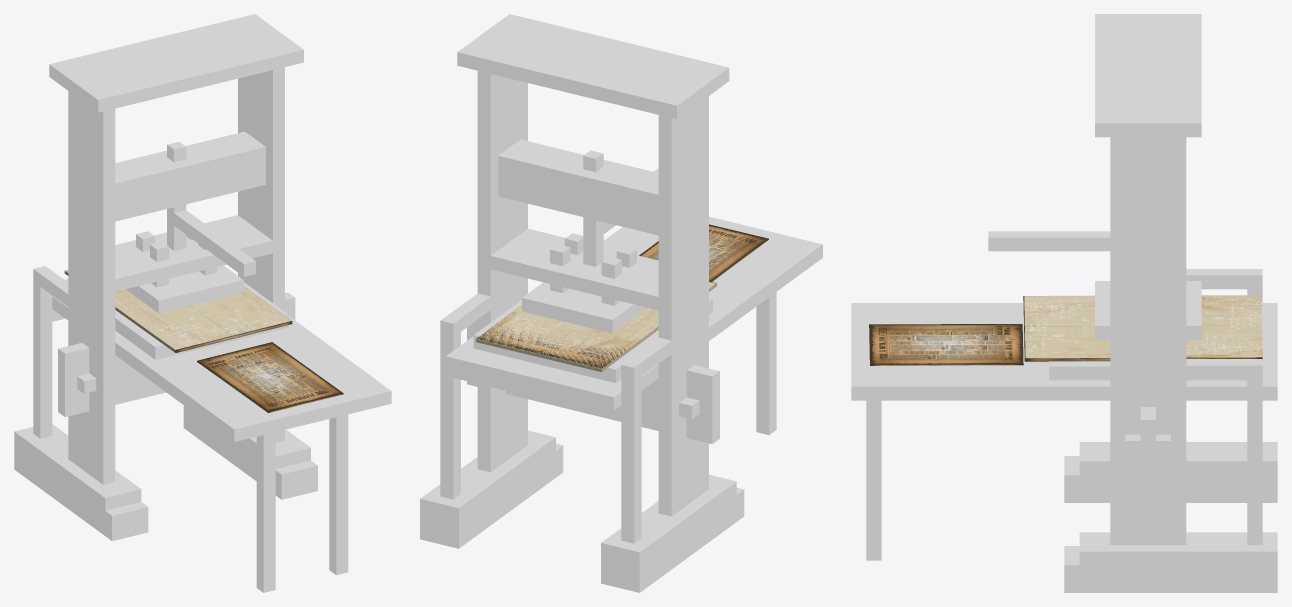
The model's file is prensa-transformed.glb.
3 views of the same model, side by side, from view 1: azimuth 30°, elevation 25°; view 2: azimuth 150°, elevation 25°; view 3: azimuth 270°, elevation 25° (orthographic). The views are drawn at different scales.
Visible parts, largest first — view 1: Object_2, s.001, s__2_.001; view 2: Object_2, s.001, s__1_.001, s__2_.001; view 3: Object_2, s.001, s__2_.001, s__1_.001.
Boxes of the visible parts, x1=… form: Object_2: x1=14, y1=14, x2=391, y2=592; s.001: x1=64, y1=270, x2=291, y2=352; s__2_.001: x1=197, y1=342, x2=343, y2=412; Object_2: x1=420, y1=14, x2=822, y2=592; s.001: x1=476, y1=282, x2=716, y2=372; s__1_.001: x1=476, y1=281, x2=716, y2=368; s__2_.001: x1=639, y1=224, x2=768, y2=281; Object_2: x1=851, y1=14, x2=1277, y2=592; s.001: x1=1024, y1=295, x2=1262, y2=360; s__2_.001: x1=869, y1=324, x2=1023, y2=365; s__1_.001: x1=1023, y1=296, x2=1262, y2=361.
Bounding box in the file's own units: 19 × 34 × 28.
3 materials, 2 textured.
